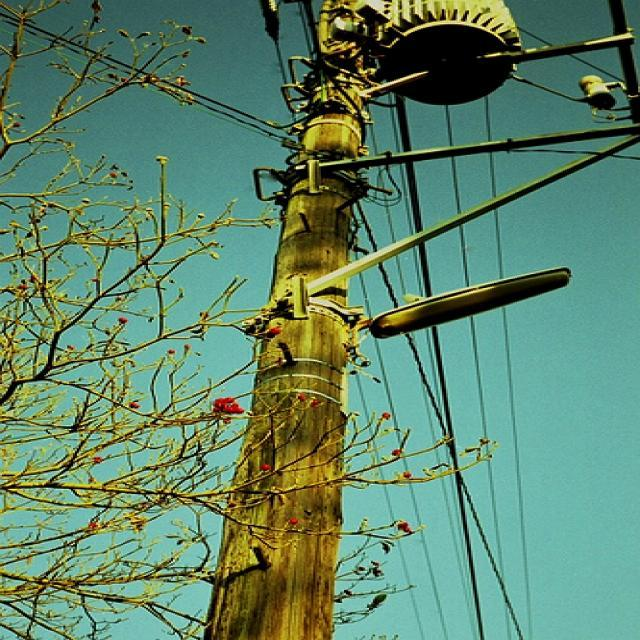pole: (202, 0, 402, 640)
transformer: (375, 1, 511, 102)
wire: (356, 211, 522, 640), (401, 90, 483, 640), (444, 103, 511, 640), (504, 314, 532, 640), (486, 96, 502, 278)
